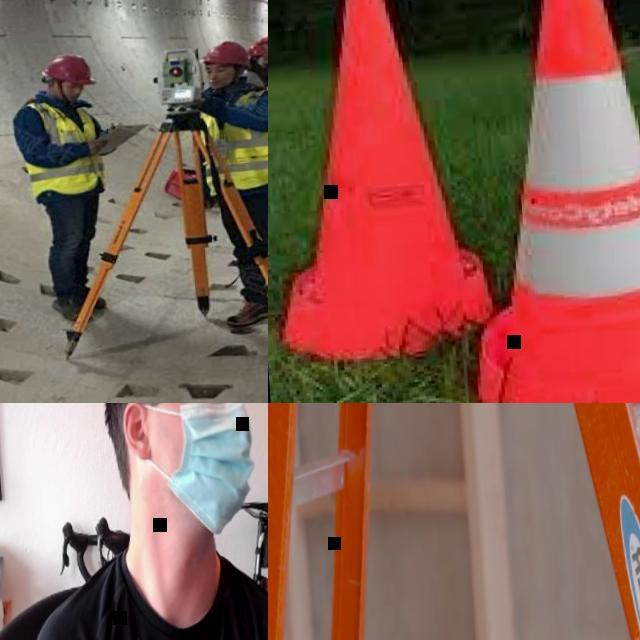helmet: (39, 52, 97, 88), (202, 40, 252, 72), (245, 44, 268, 58), (261, 34, 268, 45)
vest: (23, 96, 107, 203), (193, 81, 268, 199)
